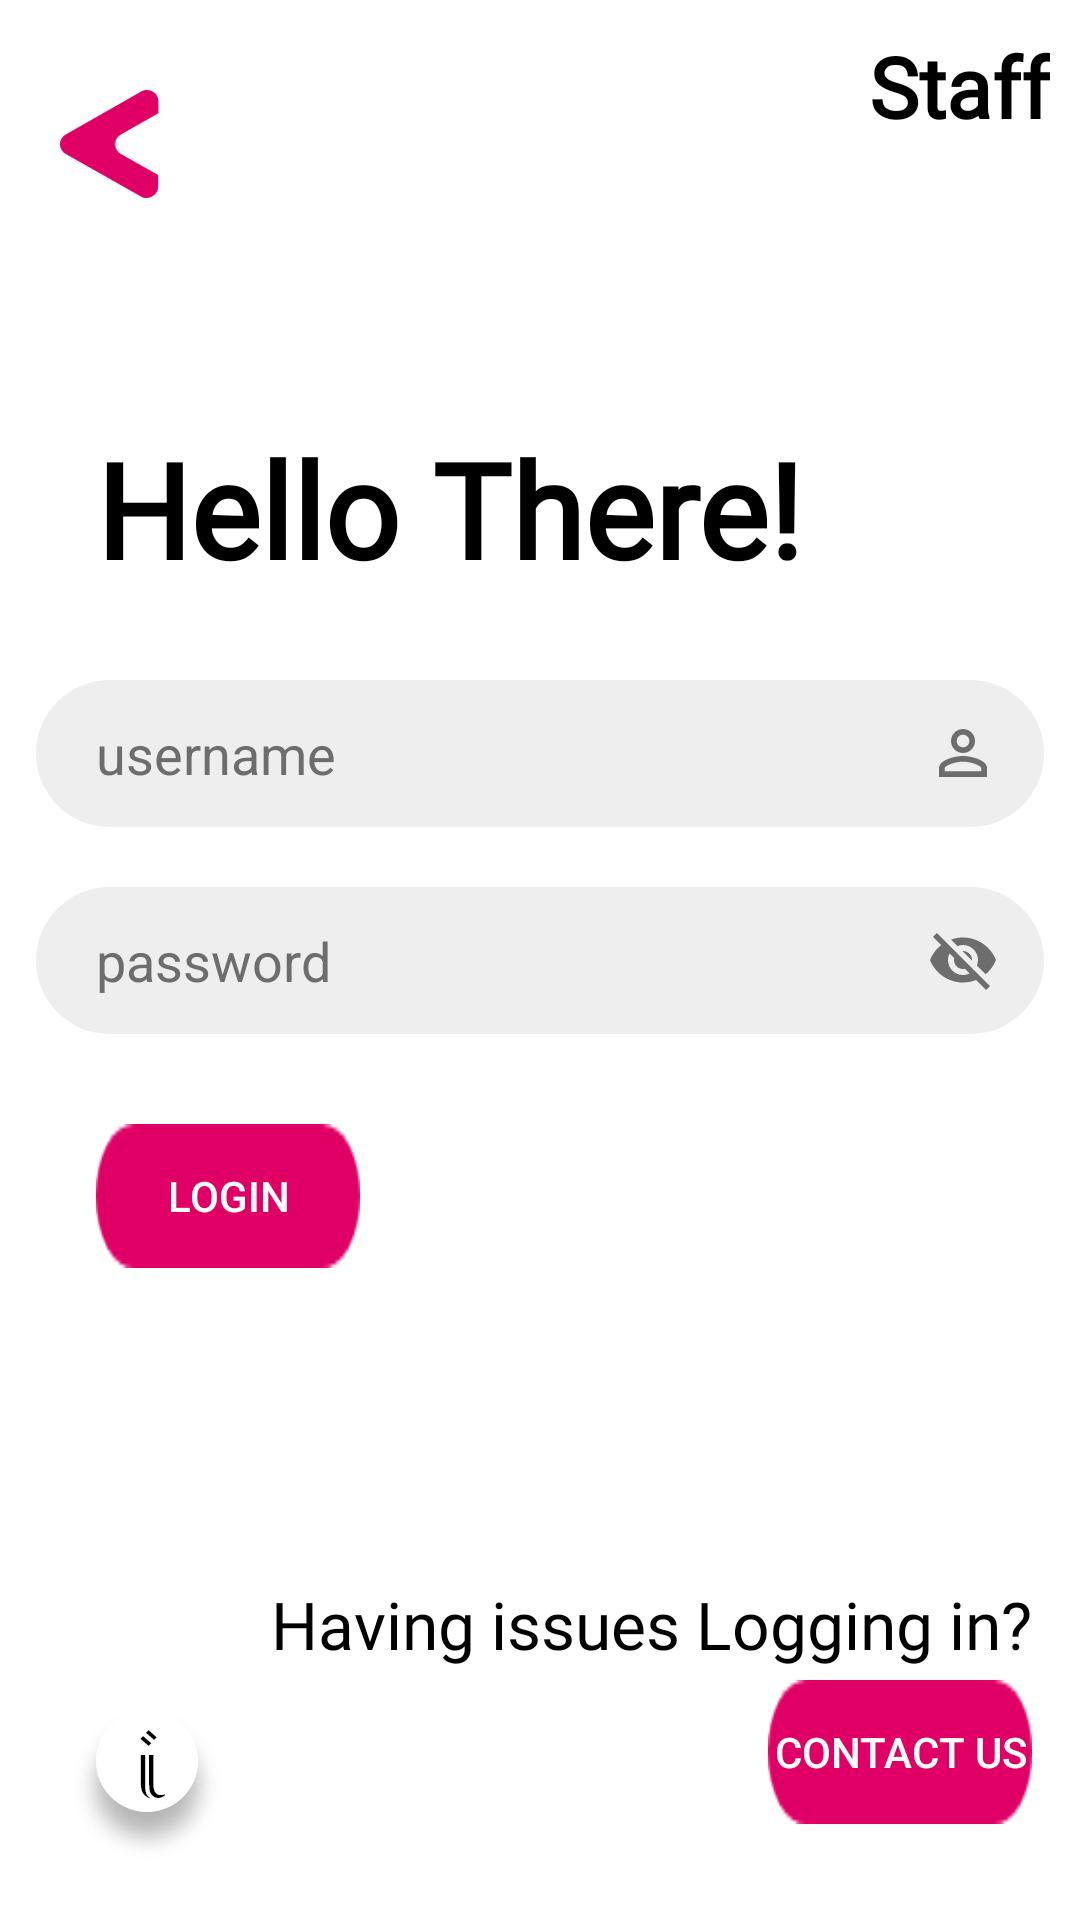

Named icons in this screenshot (1080*1920) and their bounding boxes, (x1, y1, x2, y2):
backbtn: (60, 90, 159, 198)
Credits Button: (92, 1730, 203, 1841)
